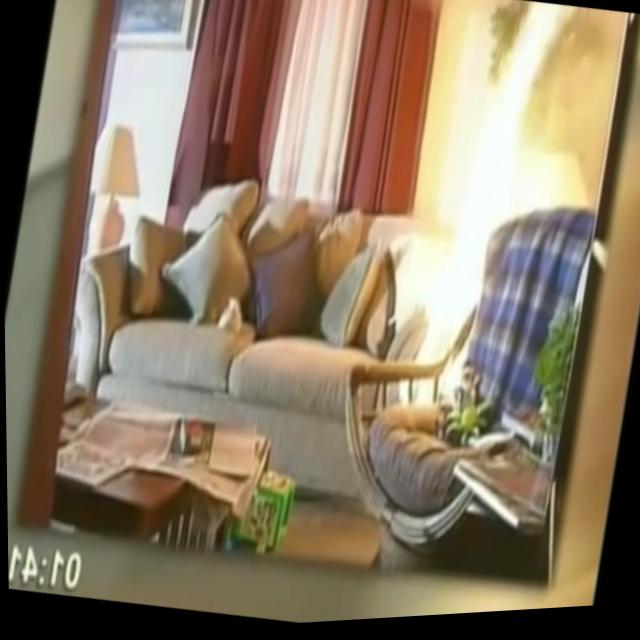fire: (390, 77, 537, 416)
